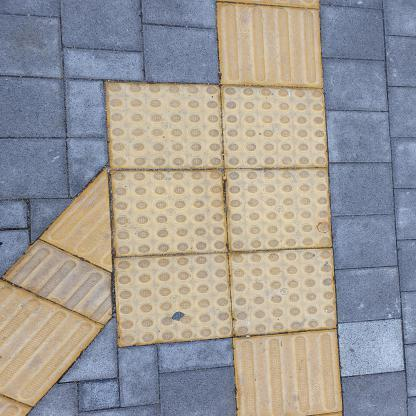podotacti: (104, 0, 351, 415), (0, 155, 119, 415)
